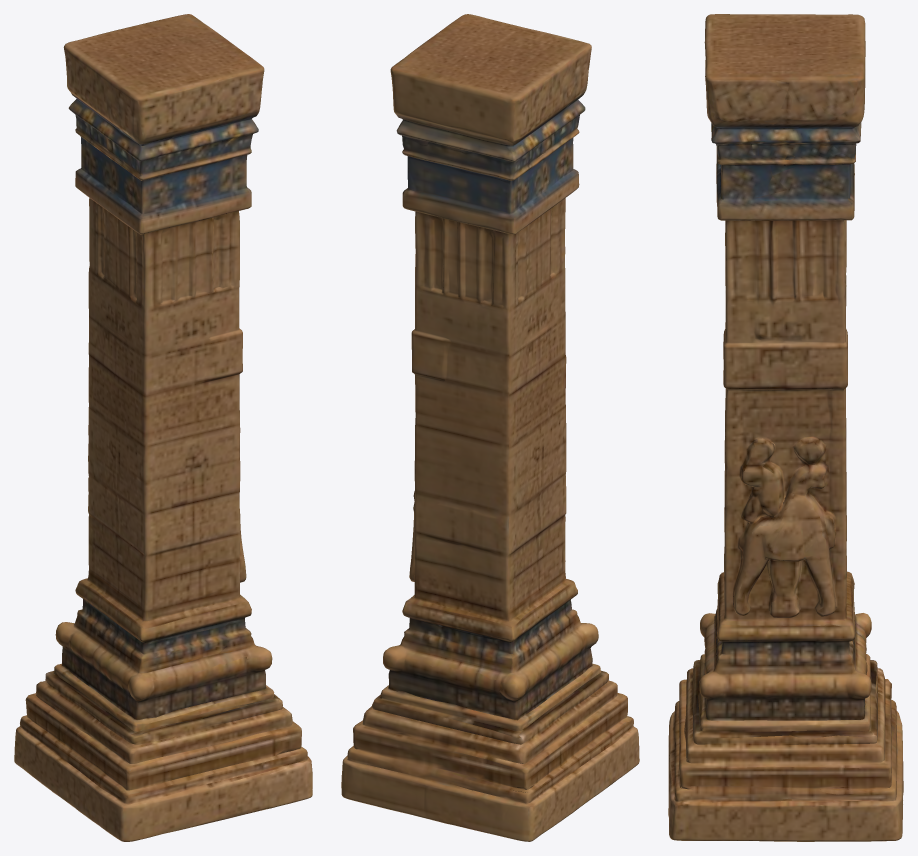
Rendered from عمود-المجلس.glb.
3 renders of one model, left to right at view 1: azimuth 30°, elevation 25°; view 2: azimuth 150°, elevation 25°; view 3: azimuth 270°, elevation 25°, orthographic. The views are drawn at different scales.
Visible parts, largest first — view 1: K2-column; view 2: K2-column; view 3: K2-column.
Part boxes in pixels (x1,y1,x2,y2): K2-column: (14,14,312,841); K2-column: (341,14,639,841); K2-column: (668,14,903,841).
Size of the model in its own units: 0.134 by 0.478 by 0.1361.
1 material, 1 textured.
